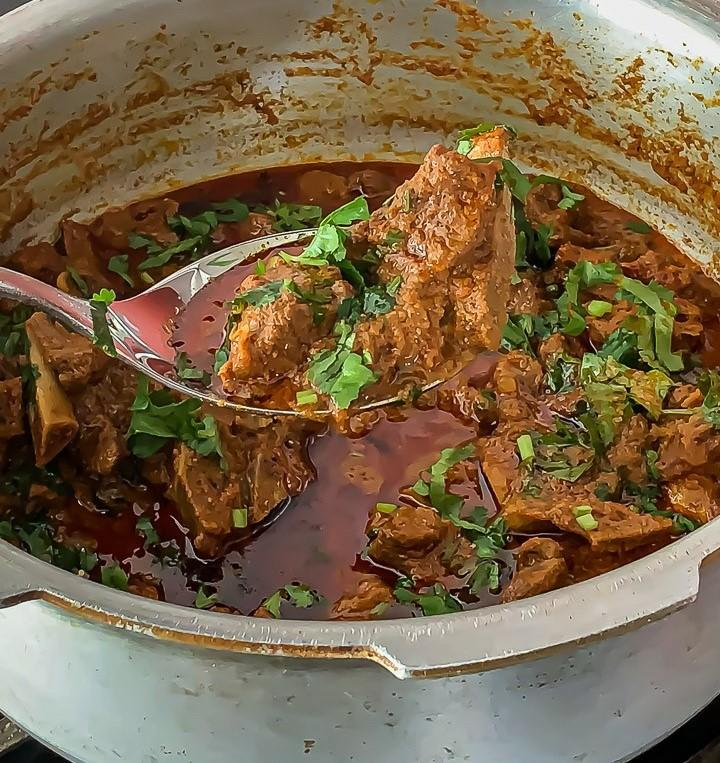MuttonCurry: (0, 126, 720, 617)
